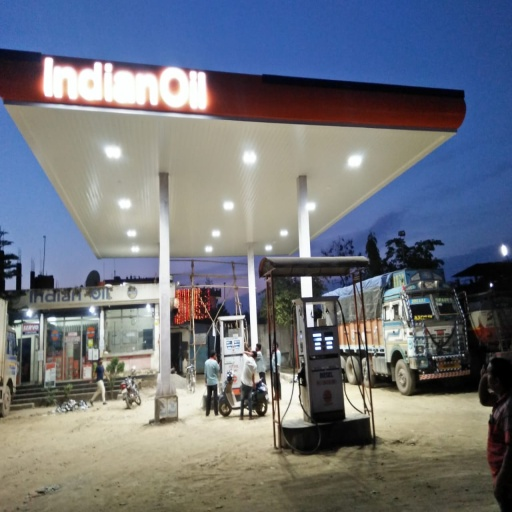roof: (1, 47, 467, 257)
